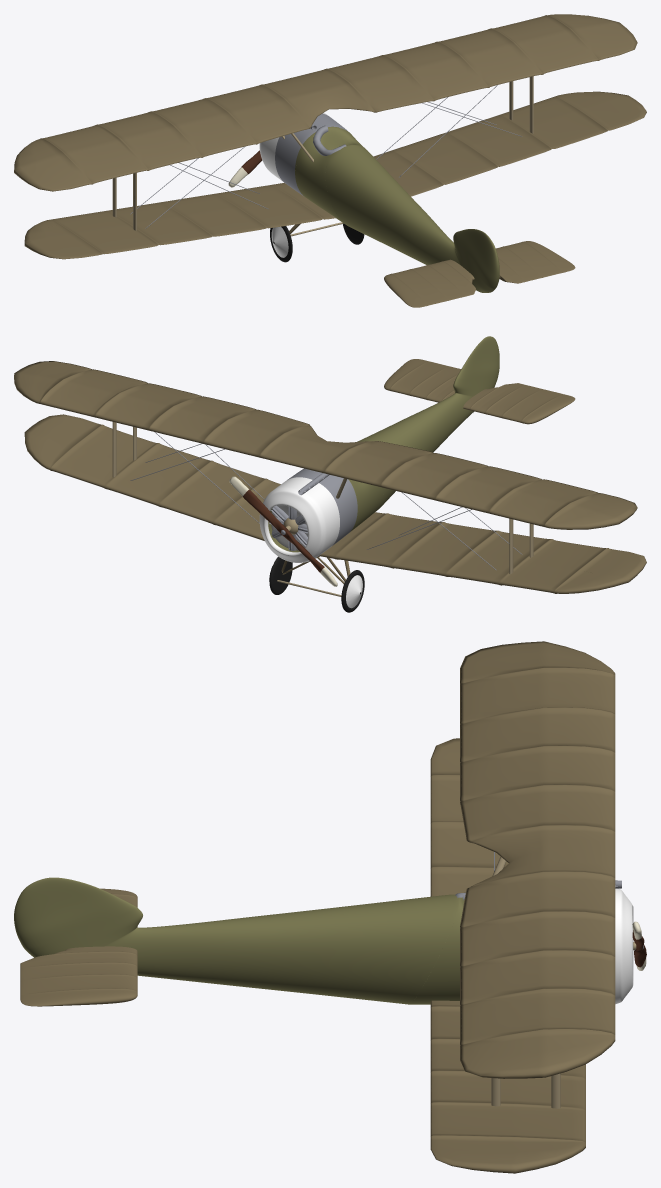
File: moving_plane.fbx
The picture shows the model from 3 angles, top to bottom: view 1: azimuth 30°, elevation 25°; view 2: azimuth 150°, elevation 25°; view 3: azimuth 270°, elevation 25°; orthographic projection. The views are drawn at different scales.
Visible parts, largest first — view 1: bottomwing; view 2: bottomwing; view 3: bottomwing.
Boxes of the visible parts, x1,y1,x2,y2 form: bottomwing: [14, 14, 646, 307]; bottomwing: [14, 336, 646, 612]; bottomwing: [14, 641, 646, 1173].
Bounding box in the file's own units: 1905 × 486 × 1179.
